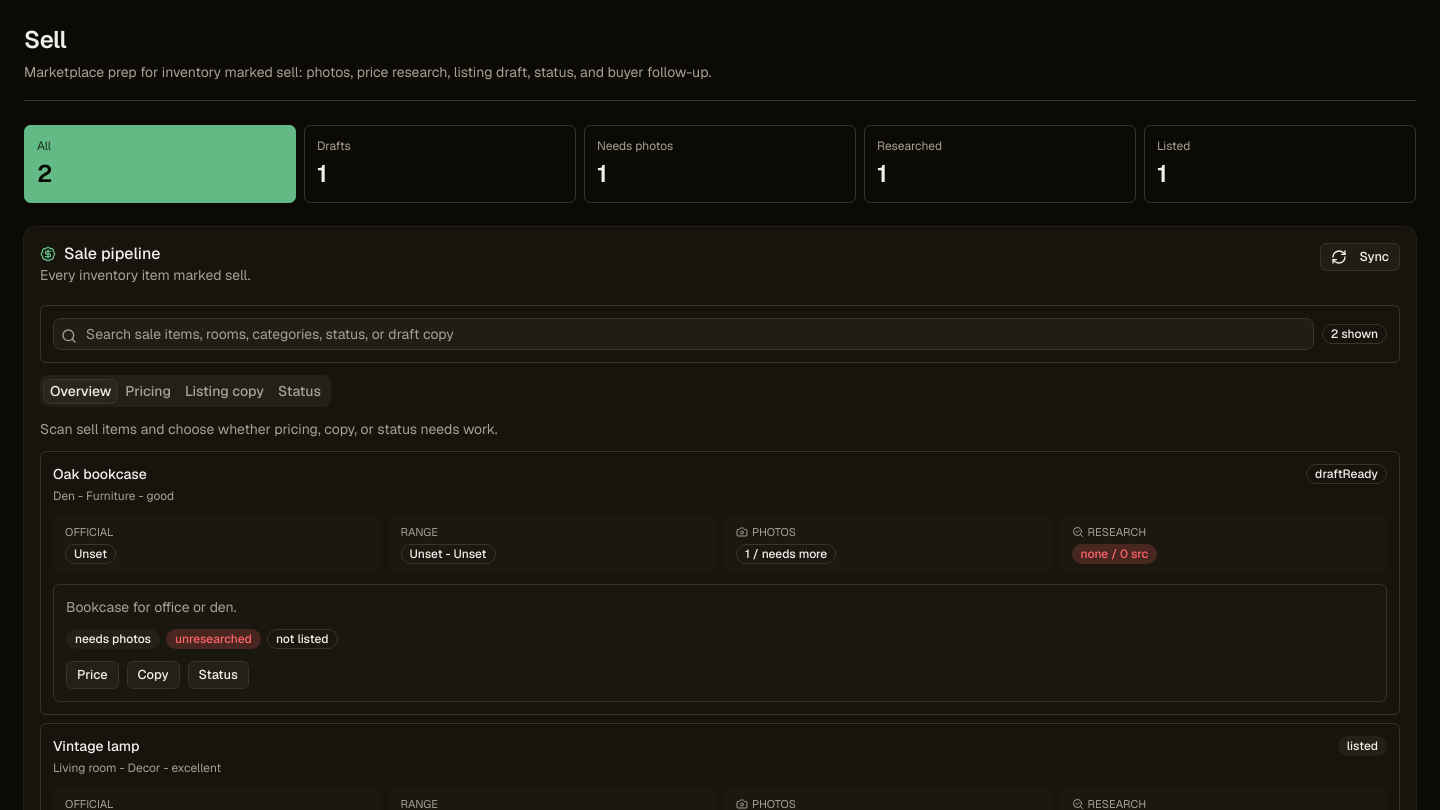
Test: SellWorkspacePage › searches sale listings before opening a focused task
Type "living" into the field named "Search sale listings" at (683, 334), box x1=53 y1=318 x2=1314 y2=350
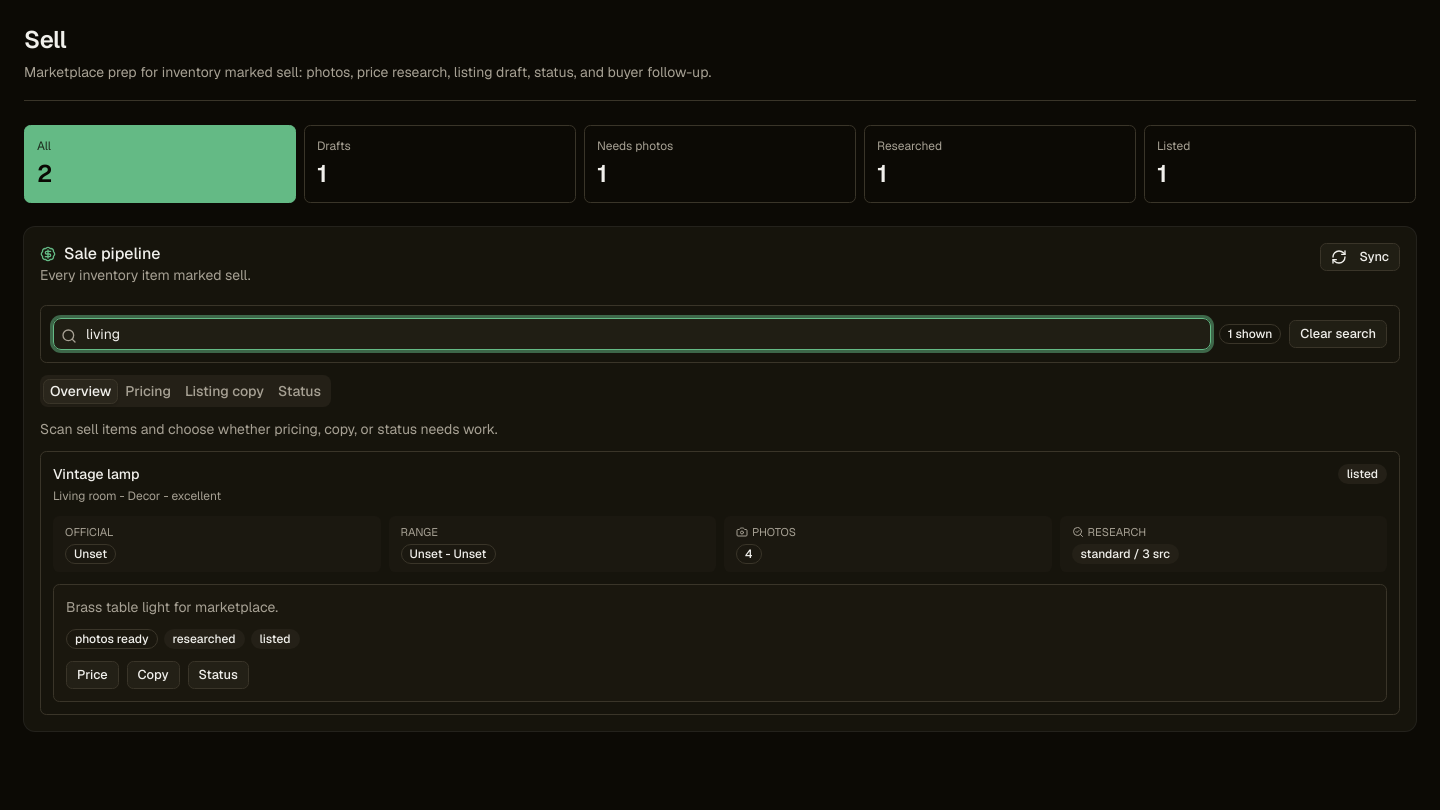
Check: the heading "Vintage lamp" is shown, box x1=53 y1=465 x2=139 y2=483
Check: the text "1 shown" is shown, box x1=1219 y1=324 x2=1281 y2=344
Check: the heading "Oak bookcase" is gone
Click the tab "Pricing" at (148, 391), box x1=118 y1=378 x2=178 y2=404
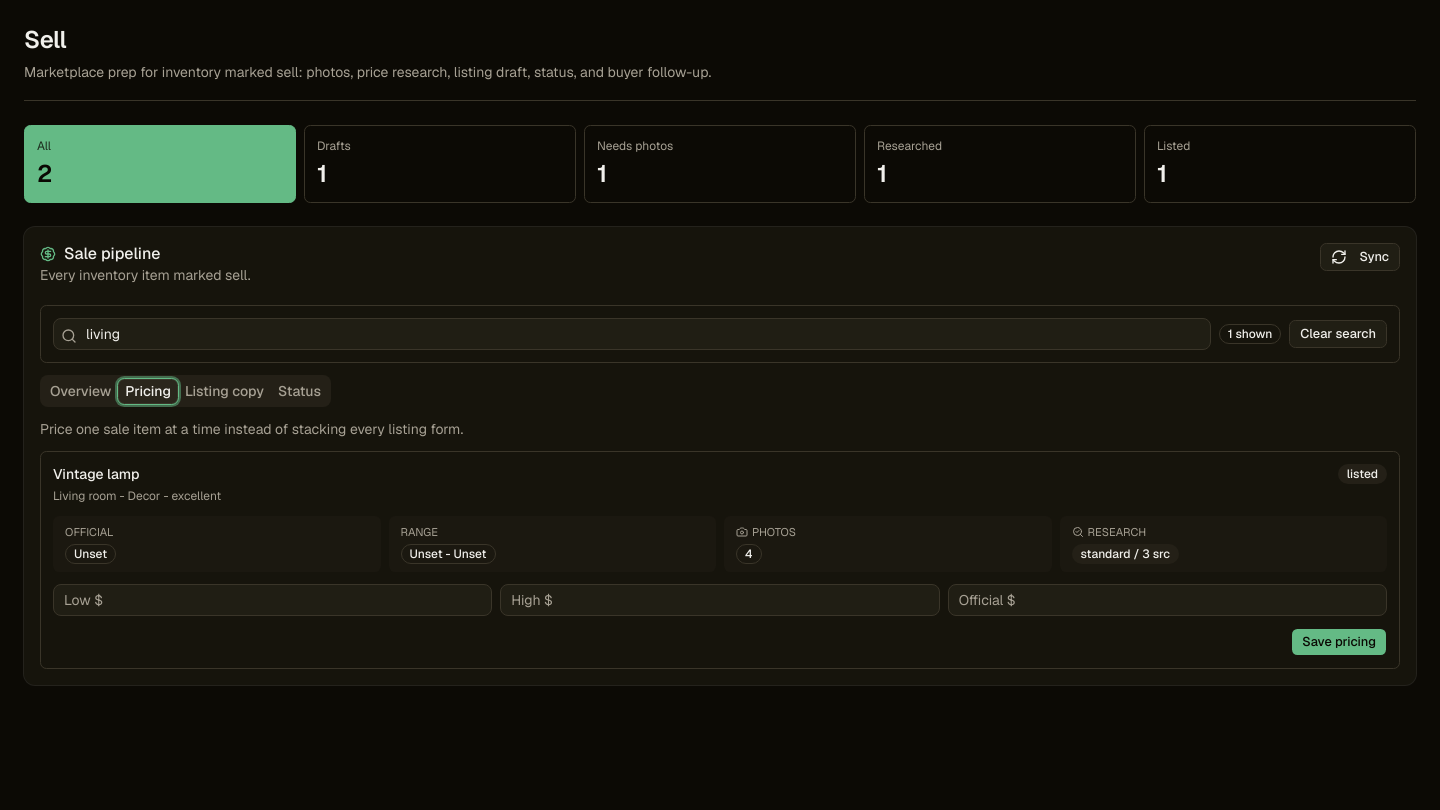
Check: the field named "Vintage lamp low suggested price" is shown, box x1=53 y1=584 x2=492 y2=616
Click the button "Clear search" at (1338, 334), box x1=1289 y1=320 x2=1387 y2=348
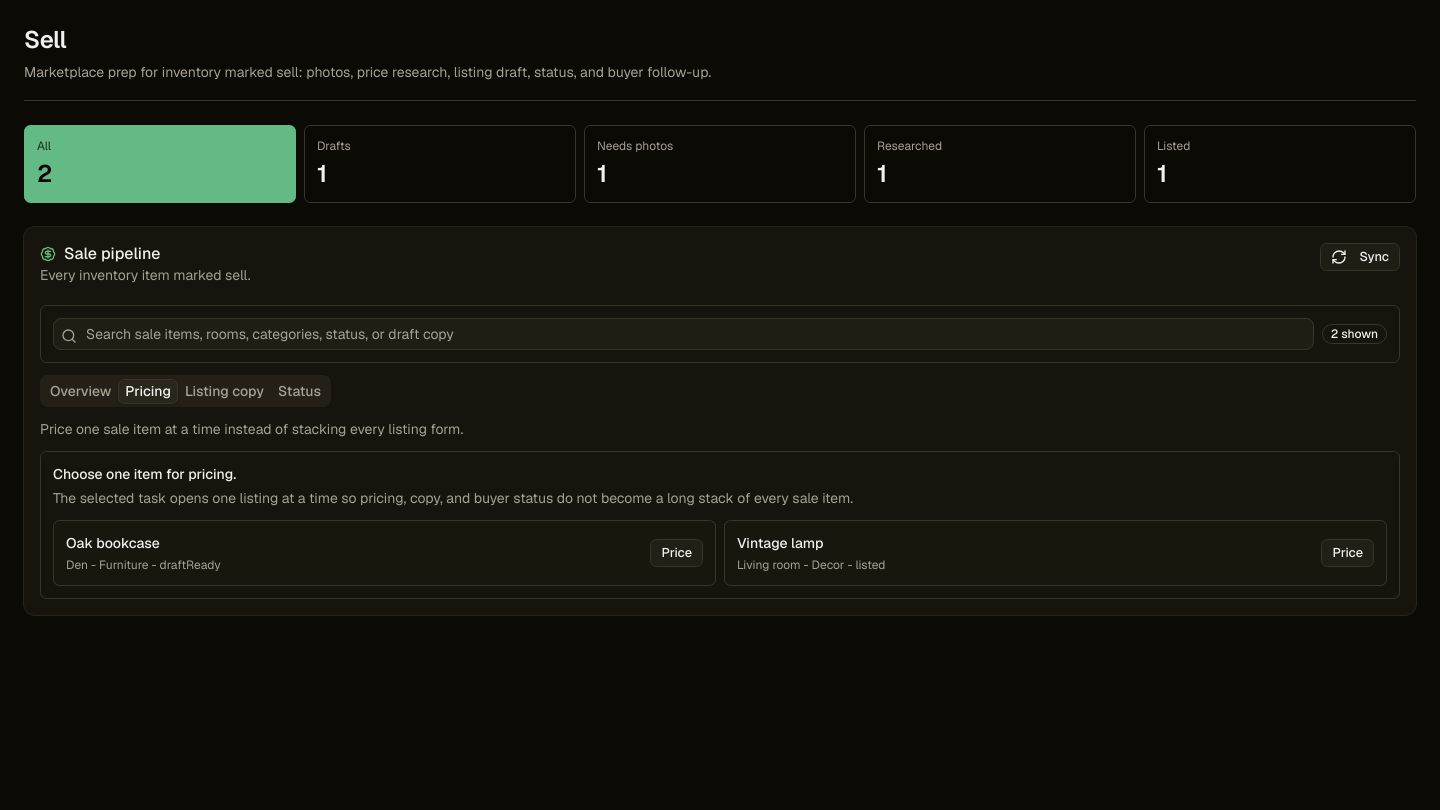
Check: the text "2 shown" is shown, box x1=1322 y1=324 x2=1387 y2=344
Check: the text "Choose one item for pricing." is shown, box x1=53 y1=465 x2=236 y2=483
Check: the button with aria-label "Price Oak bookcase" is shown, box x1=650 y1=539 x2=703 y2=567
